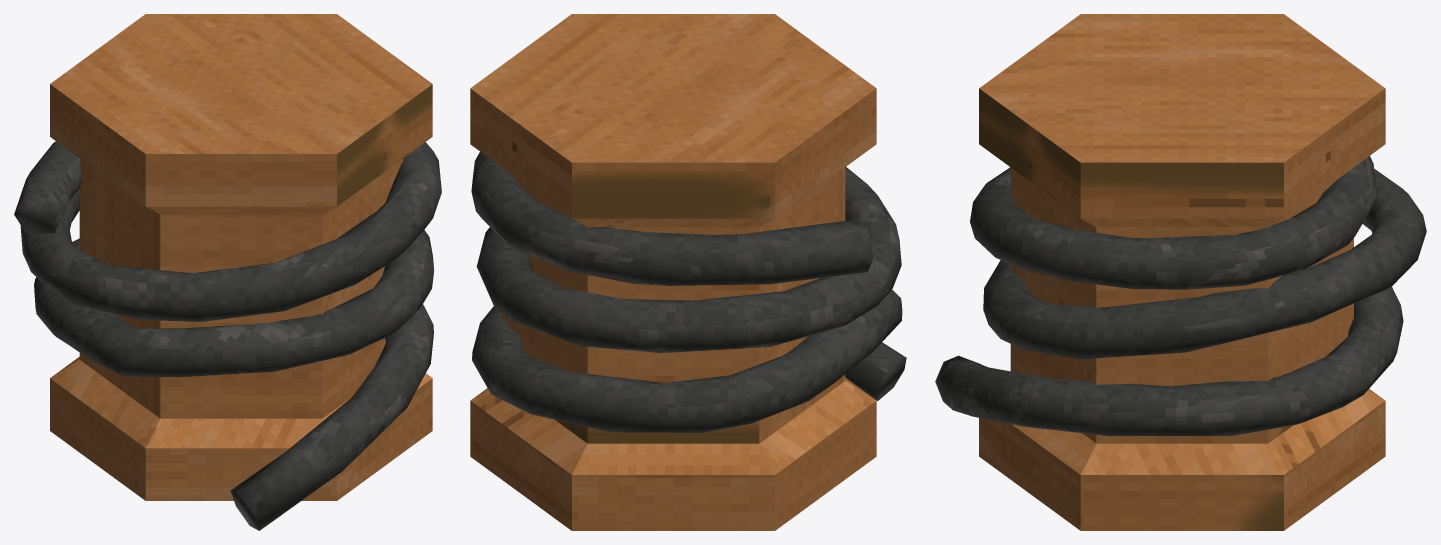
File: Filo_Bobina.fbx
3 views of the same model, side by side, from view 1: azimuth 30°, elevation 25°; view 2: azimuth 150°, elevation 25°; view 3: azimuth 270°, elevation 25° (orthographic). The views are drawn at different scales.
Parts seen in each view (by area): view 1: NurbsPath; view 2: NurbsPath; view 3: NurbsPath.
Boxes of the visible parts, x1=… form: NurbsPath: x1=14, y1=14, x2=441, y2=530; NurbsPath: x1=470, y1=14, x2=906, y2=530; NurbsPath: x1=935, y1=14, x2=1426, y2=530.
Bounding box in the file's own units: 0.0217 × 0.0191 × 0.0231.
Materials: 2 (2 with a texture image).
